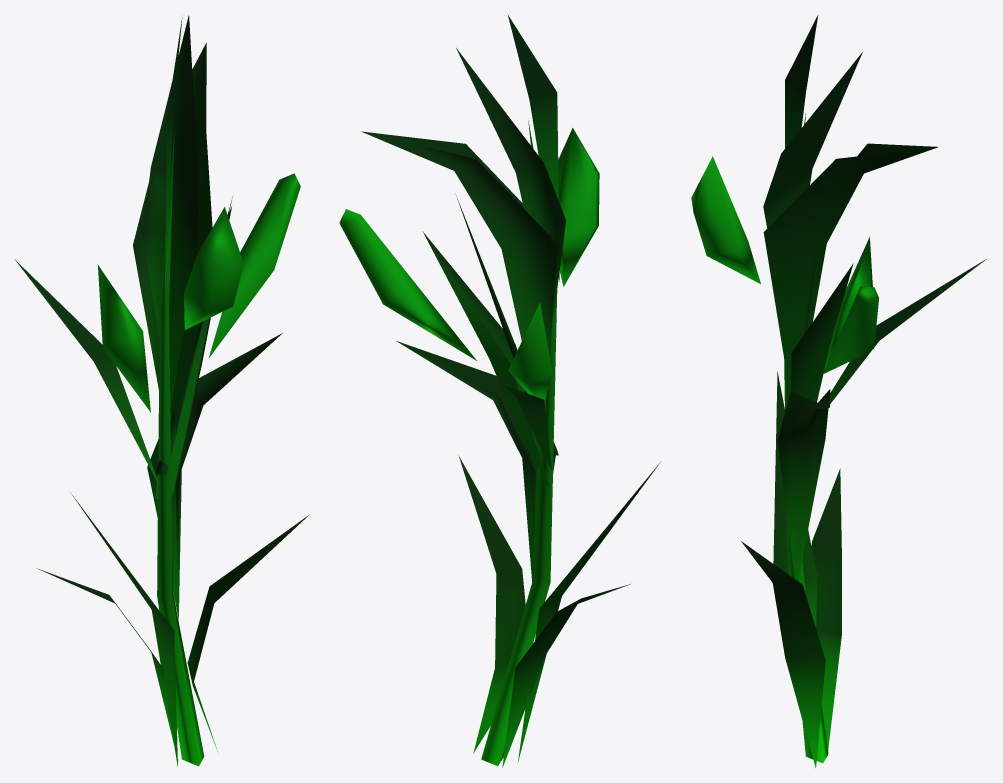
Rendered from env_foliage_cucumberplant02_lod1.fbx.
The picture shows the model from 3 angles, left to right: view 1: azimuth 30°, elevation 25°; view 2: azimuth 150°, elevation 25°; view 3: azimuth 270°, elevation 25°; orthographic projection.
Visible parts, largest first — view 1: env_foliage_cucumberplant02_lod1; view 2: env_foliage_cucumberplant02_lod1; view 3: env_foliage_cucumberplant02_lod1.
Boxes of the visible parts, bbox=[...] form: env_foliage_cucumberplant02_lod1: bbox=[14, 15, 309, 766]; env_foliage_cucumberplant02_lod1: bbox=[339, 14, 660, 767]; env_foliage_cucumberplant02_lod1: bbox=[691, 15, 986, 767].
Bounding box in the file's own units: 7.3 × 18.74 × 6.83.
